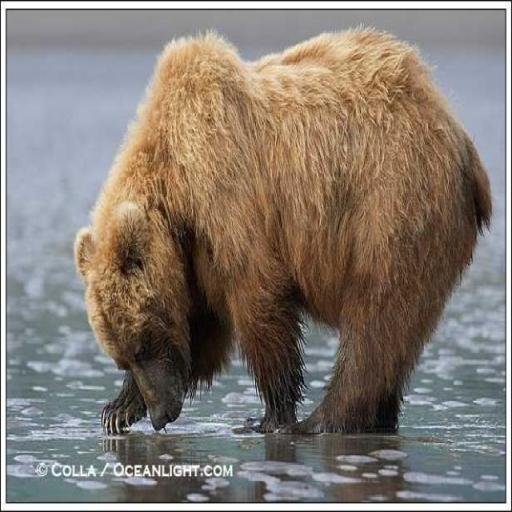Bear: (73, 23, 493, 436)
